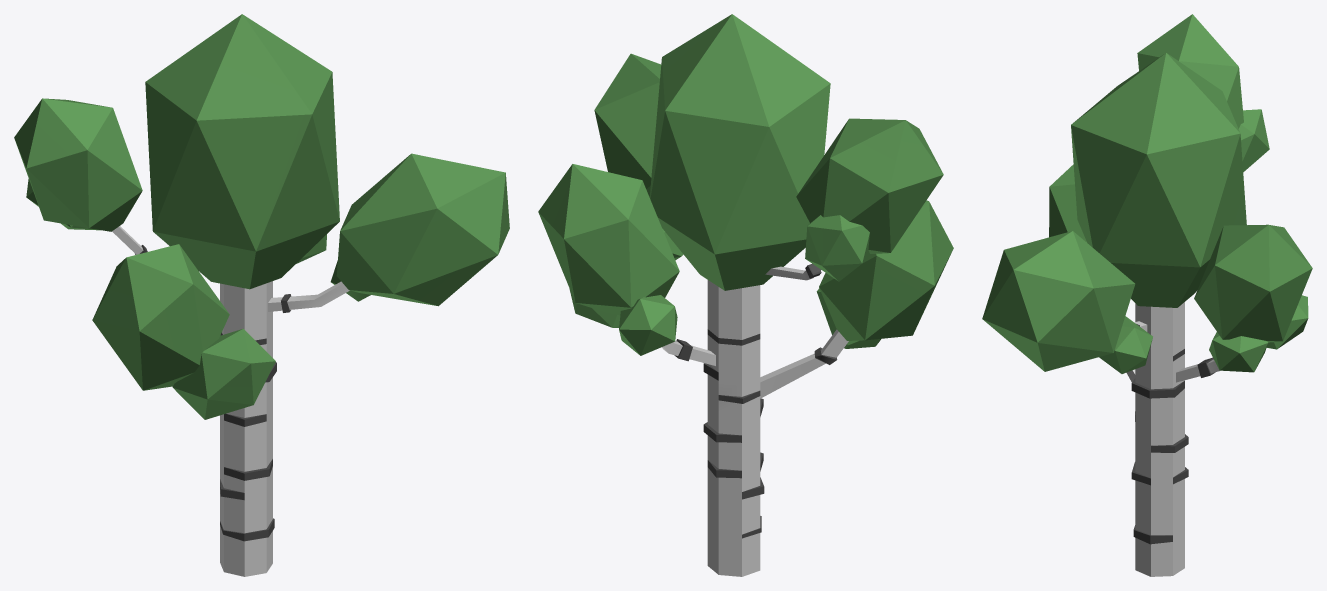
The model's file is Bouleau_02.fbx.
3 renders of one model, left to right at view 1: azimuth 30°, elevation 25°; view 2: azimuth 150°, elevation 25°; view 3: azimuth 270°, elevation 25°, orthographic. The views are drawn at different scales.
Parts seen in each view (by area): view 1: Bouleau_02; view 2: Bouleau_02; view 3: Bouleau_02.
Boxes of the visible parts, x1,y1,x2,y2 form: Bouleau_02: (14,14,509,576); Bouleau_02: (538,14,953,576); Bouleau_02: (982,14,1312,576).
Size of the model in its own units: 408 by 520 by 303.
Materials: 1 (1 with a texture image).
